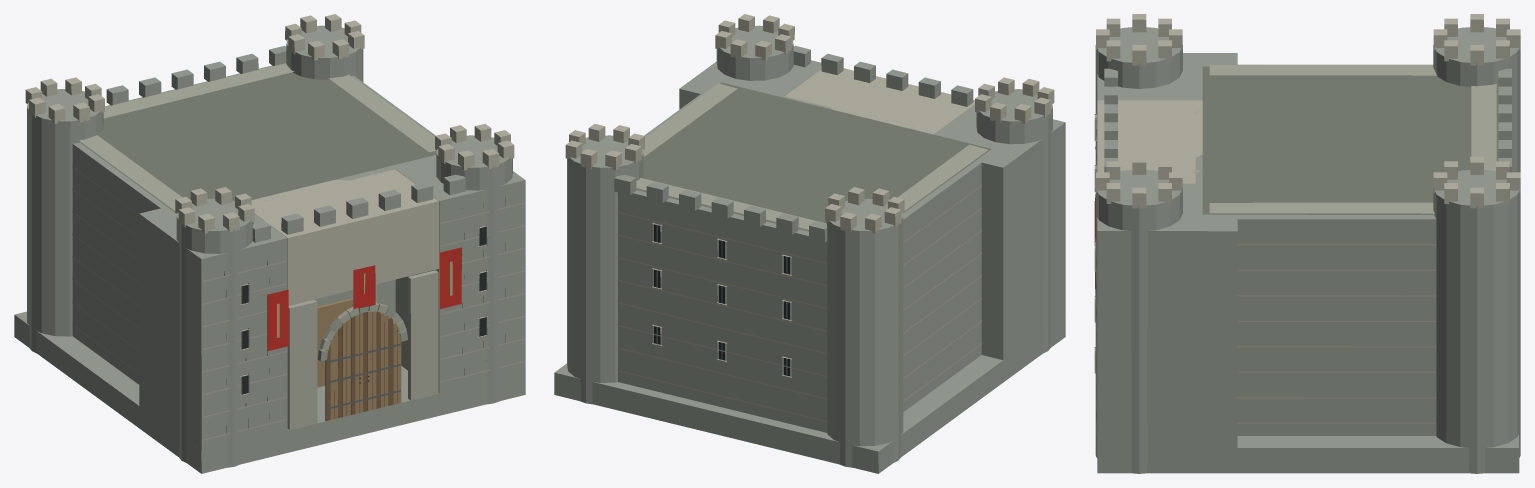
Rendered from citadel_keep_low.glb.
The picture shows the model from 3 angles, left to right: view 1: azimuth 30°, elevation 25°; view 2: azimuth 150°, elevation 25°; view 3: azimuth 270°, elevation 25°; orthographic projection. The views are drawn at different scales.
Parts seen in each view (by area): view 1: citadel_keep.001; view 2: citadel_keep.001; view 3: citadel_keep.001.
Boxes of the visible parts, x1,y1,x2,y2 form: citadel_keep.001: [14, 14, 525, 473]; citadel_keep.001: [554, 14, 1065, 473]; citadel_keep.001: [1094, 14, 1520, 473].
Bounding box in the file's own units: 30.2 × 21.99 × 30.3.
